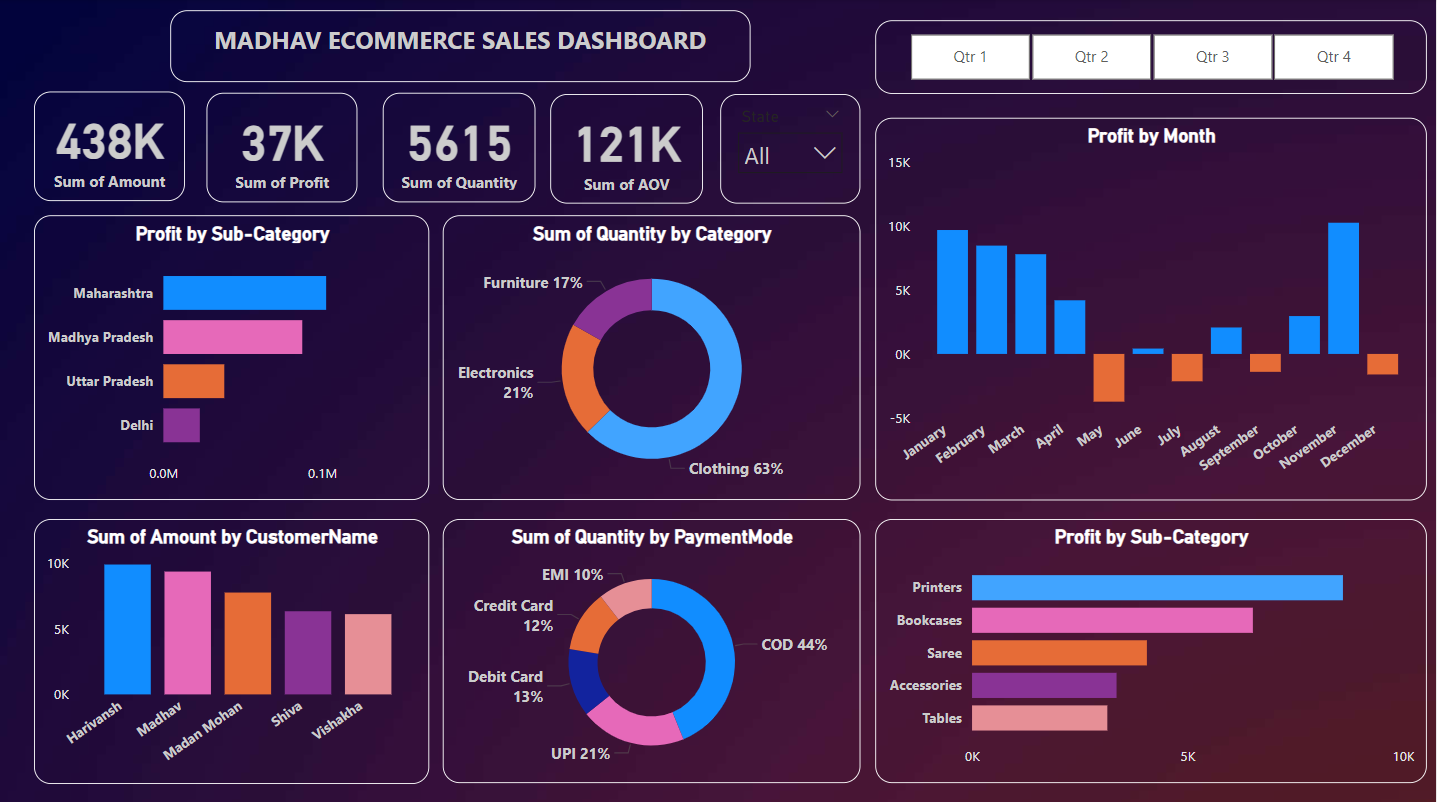

The dashboard page shown, as its layout file describes it:
{"tool":"powerbi","page":{"name":"Page 1","canvas":[1280,720],"ordinal":0},"visuals":[{"type":"textbox","box":[152.1,9.8,516.6,63.8],"z":0},{"type":"columnChart","title":"Profit by Month","fields":{"Y":["Details.Profit"],"Category":["Orders.Order Date.Variation.Date Hierarchy.Month"]},"box":[780.4,105.5,490.8,341.1],"z":1000},{"type":"barChart","title":"Profit by Sub-Category","fields":{"Category":["Details.Sub-Category"],"Y":["Details.Profit"]},"box":[780.4,462.6,490.8,235.6],"z":2000},{"type":"donutChart","fields":{"Y":["Details.Quantity"],"Category":["Details.Category"]},"box":[395.1,192.6,371.8,254],"z":3000},{"type":"donutChart","fields":{"Y":["Details.Quantity"],"Category":["Details.PaymentMode"]},"box":[395.1,462.6,371.8,235.6],"z":4000},{"type":"card","fields":{"Values":["Details.Profit"]},"box":[185.2,83.7,134.5,97.4],"z":5000},{"type":"card","fields":{"Values":["Details.Amount"]},"box":[31.6,82.3,134.5,97.4],"z":6000},{"type":"card","fields":{"Values":["Details.Quantity"]},"box":[341.7,83.7,135.8,97.4],"z":7000},{"type":"card","fields":{"Values":["Details.AOV"]},"box":[491.3,85.1,135.8,97.4],"z":8000},{"type":"barChart","title":"Profit by Sub-Category","fields":{"Category":["Orders.State"],"Y":["Details.Amount"]},"box":[30.7,192.6,352.1,254],"z":9000},{"type":"columnChart","fields":{"Category":["Orders.CustomerName"],"Y":["Details.Amount"]},"box":[31,463,352,236],"z":10000},{"type":"slicer","fields":{"Values":["Orders.Order Date.Variation.Date Hierarchy.Quarter"]},"box":[780.8,19.2,491.3,65.9],"z":11000},{"type":"slicer","fields":{"Values":["Orders.State"]},"box":[642.2,85.1,124.9,97.4],"z":12000}]}

Visuals, with their boxes in screenshot pixels (x1, y1, x2, y2), scaled from the page's 1280x720 canvas onto the 1437x802 screenshot:
textbox: select_region(171, 11, 751, 82)
"Profit by Month" columnChart: select_region(876, 118, 1427, 497)
"Profit by Sub-Category" barChart: select_region(876, 515, 1427, 778)
donutChart - Details.Quantity x Details.Category: select_region(444, 215, 861, 497)
donutChart - Details.Quantity x Details.PaymentMode: select_region(444, 515, 861, 778)
card - Details.Profit: select_region(208, 93, 359, 202)
card - Details.Amount: select_region(35, 92, 186, 200)
card - Details.Quantity: select_region(384, 93, 536, 202)
card - Details.AOV: select_region(552, 95, 704, 203)
"Profit by Sub-Category" barChart: select_region(34, 215, 430, 497)
columnChart - Orders.CustomerName x Details.Amount: select_region(35, 516, 430, 779)
slicer - Orders.Order Date.Variation.Date Hierarchy.Quarter: select_region(877, 21, 1428, 95)
slicer - Orders.State: select_region(721, 95, 861, 203)
